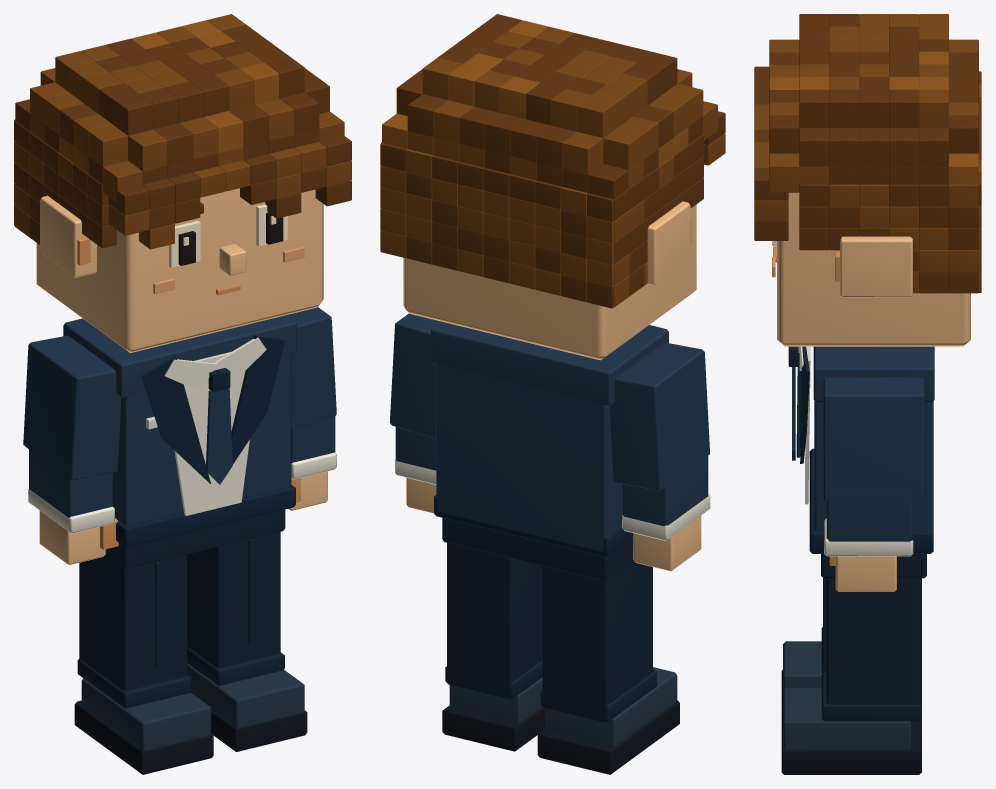
Rendered from 01_Manager_Navy.glb.
3 renders of one model, left to right at view 1: azimuth 30°, elevation 25°; view 2: azimuth 150°, elevation 25°; view 3: azimuth 270°, elevation 25°, orthographic. The views are drawn at different scales.
Visible parts, largest first — view 1: Head, Trouser leg, Upper sleeve, Torso, Trouser leg.001, Shoulders, Shoe / upper, Upper sleeve.001, Shoe / upper.001, Ivory shirt front, Shirt hem, Waist (+60 smaller); view 2: Torso, Head, Trouser leg, Trouser leg.001, Upper sleeve, Shoulders, Upper sleeve.001, Waist, Shoe / sole, Shoe / upper, Lower sleeve, Shoe / sole.001 (+61 smaller); view 3: Head, Upper sleeve.001, Trouser leg.001, Shoe / upper.001, Ear.001, Shoulders, Lower sleeve.001, Shoe / sole.001, Torso, Hand.001, Trouser cuff.001, Shoe / upper (+62 smaller).
Boxes of the visible parts, x1,y1,x2,y2 form: Head: (36, 188, 323, 352); Trouser leg: (79, 554, 187, 690); Upper sleeve: (23, 335, 121, 480); Torso: (113, 356, 291, 525); Trouser leg.001: (187, 531, 280, 667); Shoulders: (63, 315, 296, 397); Shoe / upper: (81, 678, 211, 750); Upper sleeve.001: (286, 307, 336, 429); Shoe / upper.001: (187, 663, 304, 727); Ivory shirt front: (174, 352, 249, 515); Shirt hem: (116, 484, 295, 547); Waist: (105, 509, 285, 569); Torso: (436, 363, 622, 551); Head: (403, 204, 696, 360); Trouser leg: (542, 560, 652, 722); Trouser leg.001: (447, 542, 542, 699); Upper sleeve: (610, 342, 709, 490); Shoulders: (431, 322, 668, 406); Upper sleeve.001: (390, 313, 441, 438); Waist: (442, 518, 633, 580); Shoe / sole: (537, 700, 679, 774); Shoe / upper: (545, 667, 677, 745); Lower sleeve: (622, 448, 708, 526); Shoe / sole.001: (442, 705, 544, 751); Head: (777, 192, 970, 346); Upper sleeve.001: (823, 377, 924, 501); Trouser leg.001: (826, 578, 921, 719); Shoe / upper.001: (783, 688, 911, 749); Ear.001: (840, 236, 912, 297); Shoulders: (813, 346, 934, 402); Lower sleeve.001: (826, 492, 913, 541); Shoe / sole.001: (781, 716, 921, 774); Torso: (814, 401, 933, 533); Hand.001: (835, 556, 896, 591); Trouser cuff.001: (821, 672, 921, 721); Shoe / upper: (783, 641, 822, 690).
Bounding box in the file's own units: 1.06 × 2.5 × 0.763.
